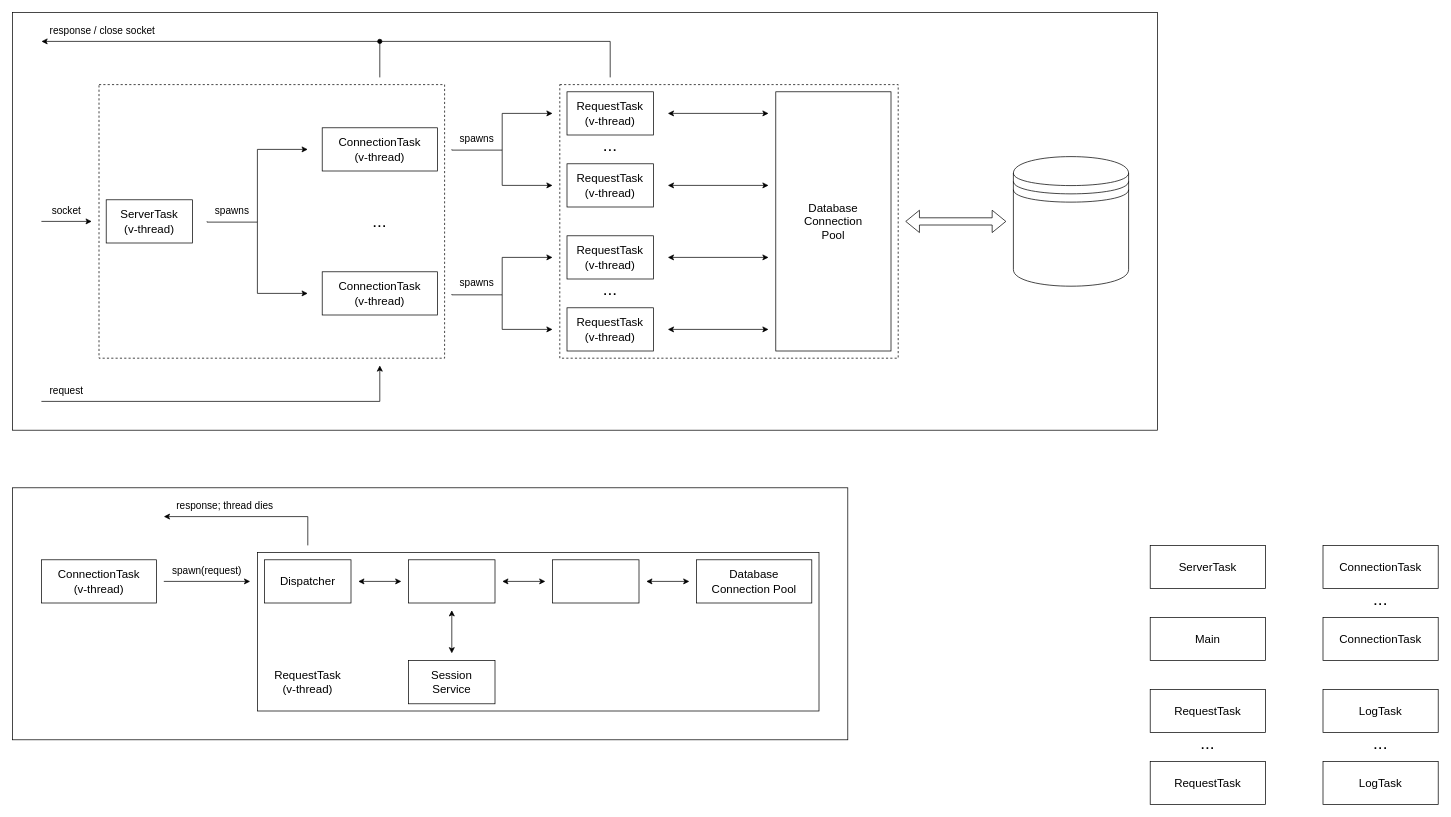
The diagram is 1451 pixels wide and 817 high, and some of its shapes have lost their labels. The shapes that lost their labels are listed below. From the top down, each one's centre as x and y in pixels, then its label:
the point at 1071,221: Database
the point at 451,581: Servlet
the point at 595,581: Cache
